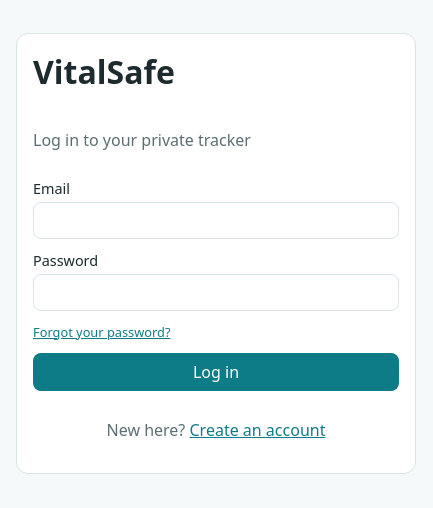
Test: AuthPage in login mode › shows the rate limit message
The width and height of the screenshot is (433, 508).
In the field labelled "Email": (216, 220) [33,202,399,238], type "me@example.com"
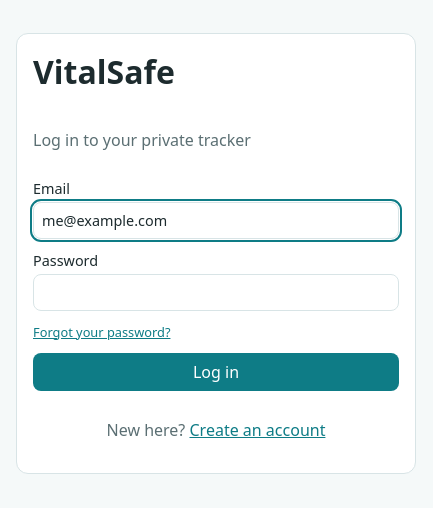
In the password field labelled "Password": (216, 292) [33,274,399,310], type "WrongPassw0rd12"
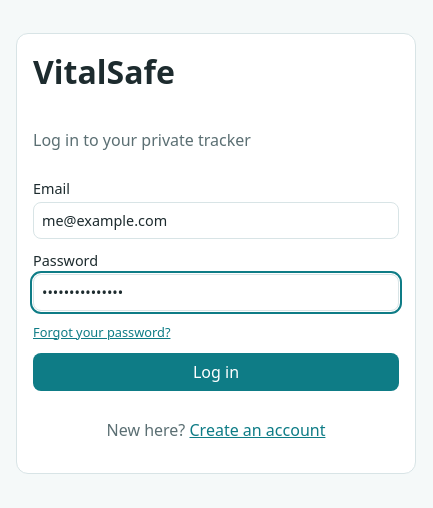
Click the button "Log in": (216, 372) [33,352,399,390]
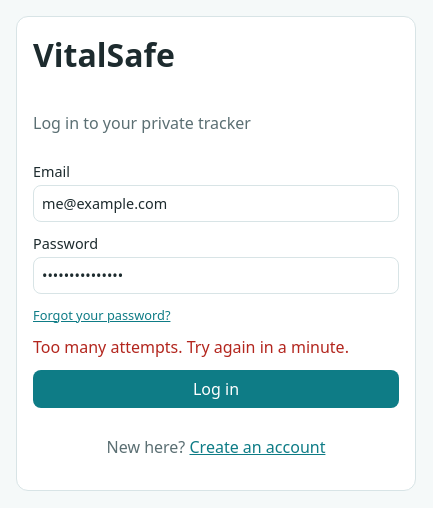
Expected: the message shows "Too many attempts", [33,336,349,358]
